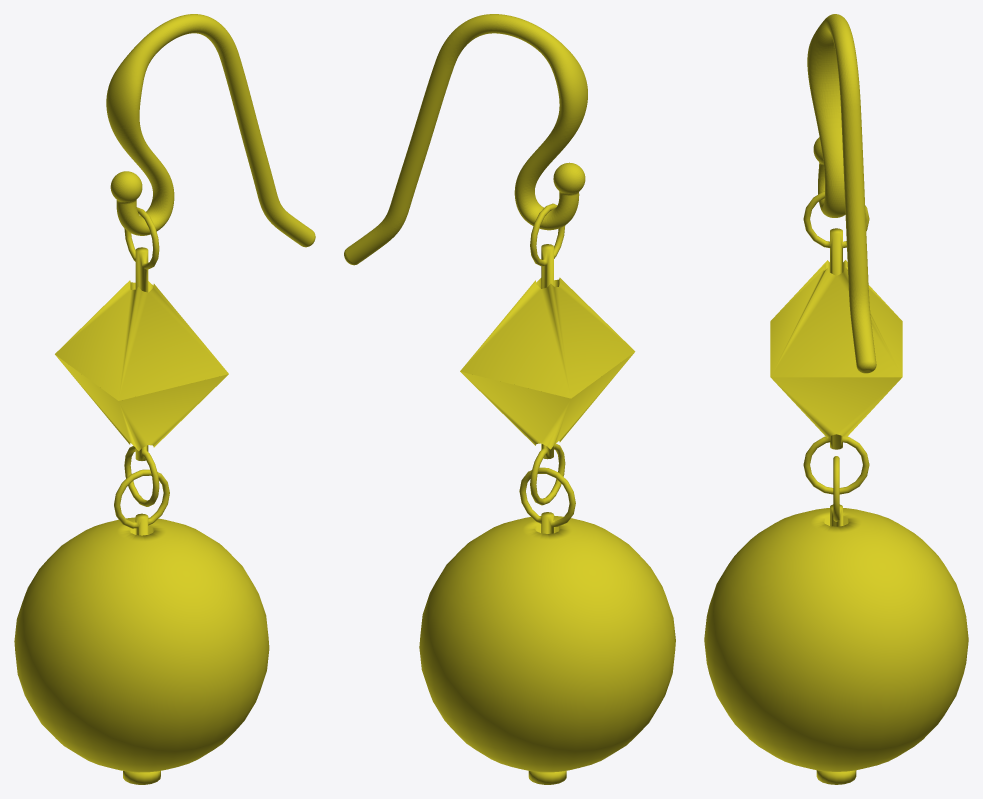
The model's file is Earring 2.fbx.
The picture shows the model from 3 angles, left to right: view 1: azimuth 30°, elevation 25°; view 2: azimuth 150°, elevation 25°; view 3: azimuth 270°, elevation 25°; orthographic projection. The views are drawn at different scales.
Visible parts, largest first — view 1: EARRING2, Hook for earring; view 2: EARRING2, Hook for earring; view 3: EARRING2, Hook for earring.
Boxes of the visible parts, <box> form: EARRING2: <box>14,207,269,784</box>; Hook for earring: <box>106,14,315,247</box>; EARRING2: <box>419,203,675,784</box>; Hook for earring: <box>344,14,587,265</box>; EARRING2: <box>704,191,968,784</box>; Hook for earring: <box>807,14,876,373</box>.
Size of the model in its own units: 320 by 770 by 239.
